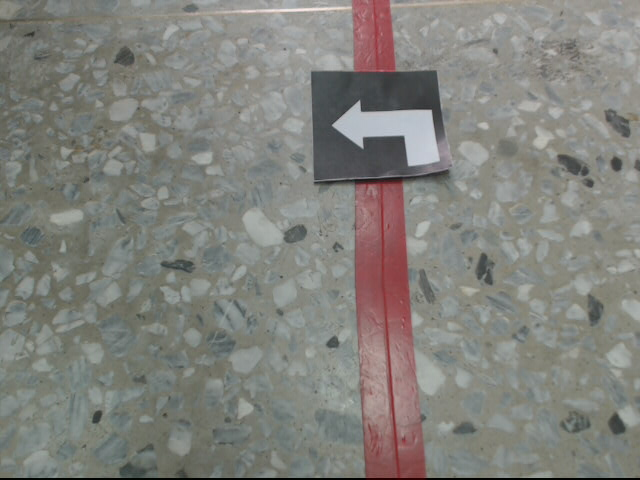left: (310, 68, 453, 184)
